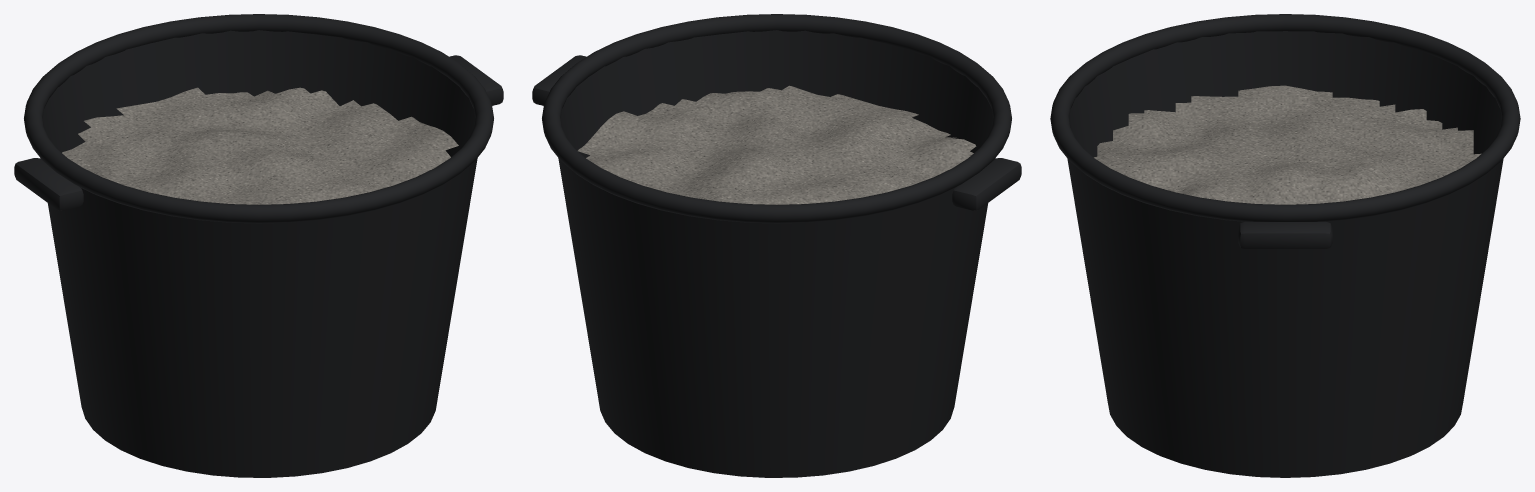
File: mortar_tub.gltf
3 renders of one model, left to right at view 1: azimuth 30°, elevation 25°; view 2: azimuth 150°, elevation 25°; view 3: azimuth 270°, elevation 25°, orthographic.
Visible parts, largest first — view 1: mortar_tub; view 2: mortar_tub; view 3: mortar_tub.
Boxes of the visible parts, <box> form: mortar_tub: <box>14,14,503,477</box>; mortar_tub: <box>532,14,1021,477</box>; mortar_tub: <box>1050,14,1520,477</box>.
Bounding box in the file's own units: 0.494 × 0.309 × 0.45.
2 materials, 1 textured.
